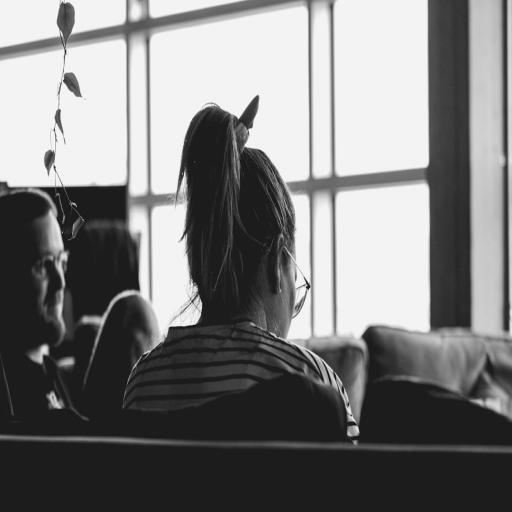face: (16, 212, 66, 349)
